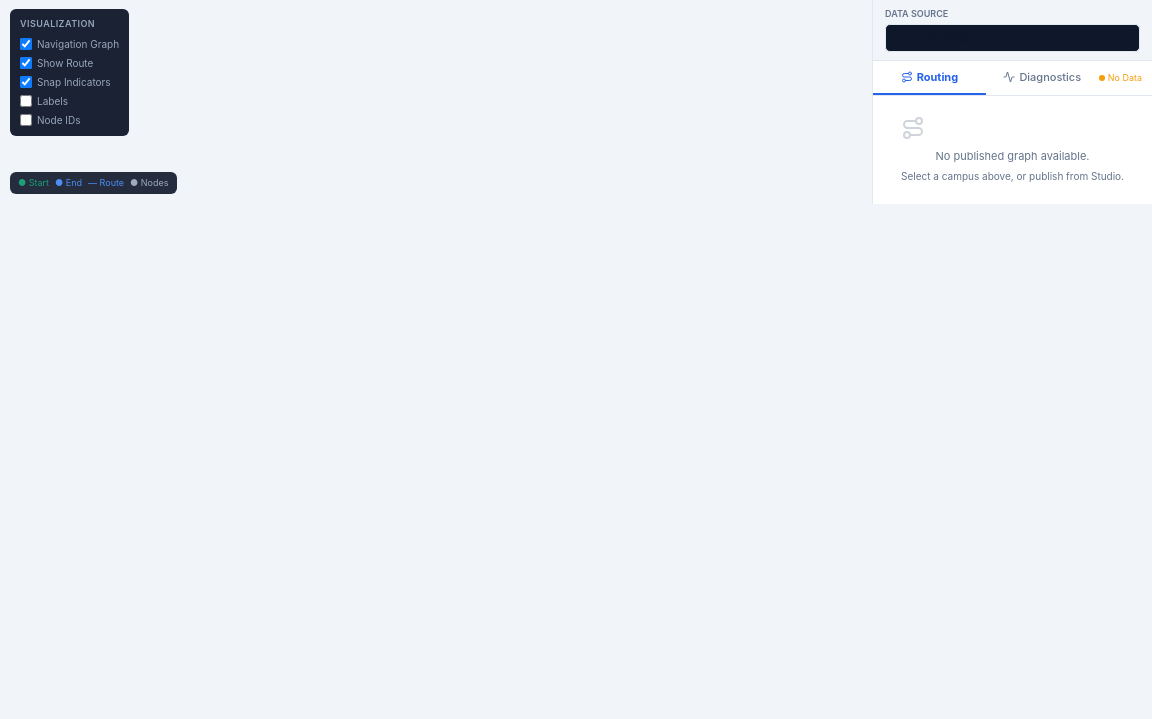
Test: development terrain validation source › exposes the existing routes page fixture selector and diagnostics
Step 1. Select "Terrain validation fixtures" in the dropdown named "Route data source" → (1012, 38), box [885,24,1140,52]
(page scrolled)
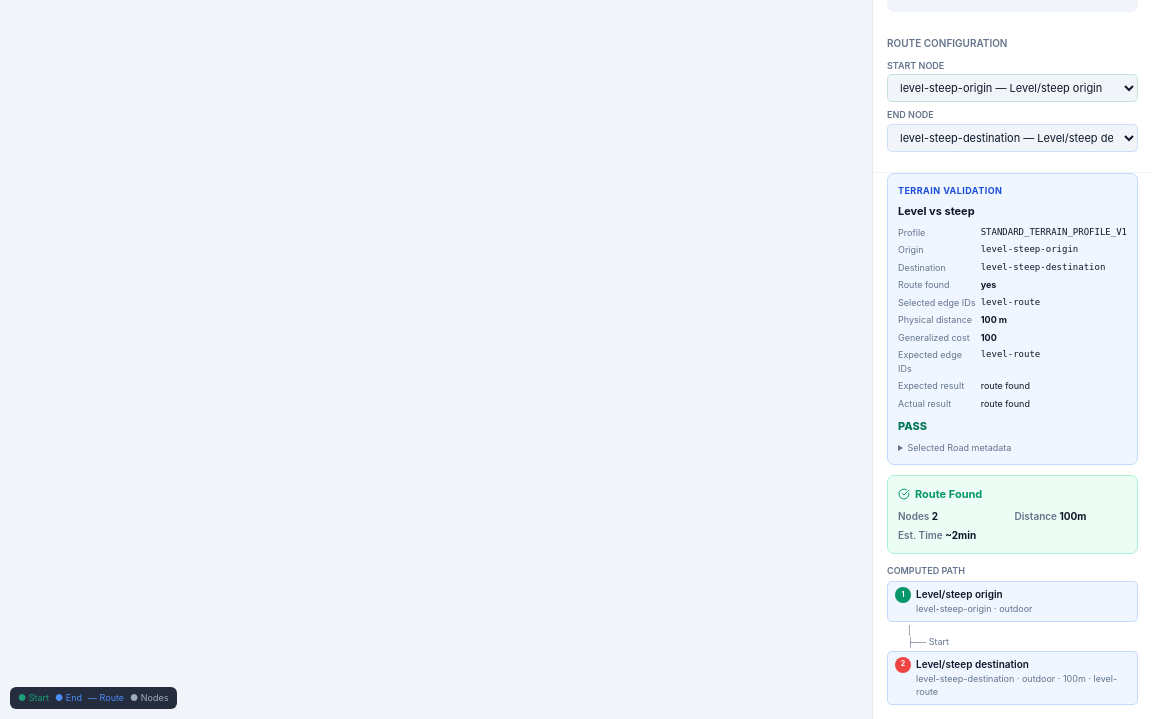
Expected: the text "TERRAIN VALIDATION" is shown, [898,184,1002,196]
Expected: the text "STANDARD_TERRAIN_PROFILE_V1" is shown, [981,226,1127,239]
Expected: the text "PASS" is shown, [898,419,927,433]
